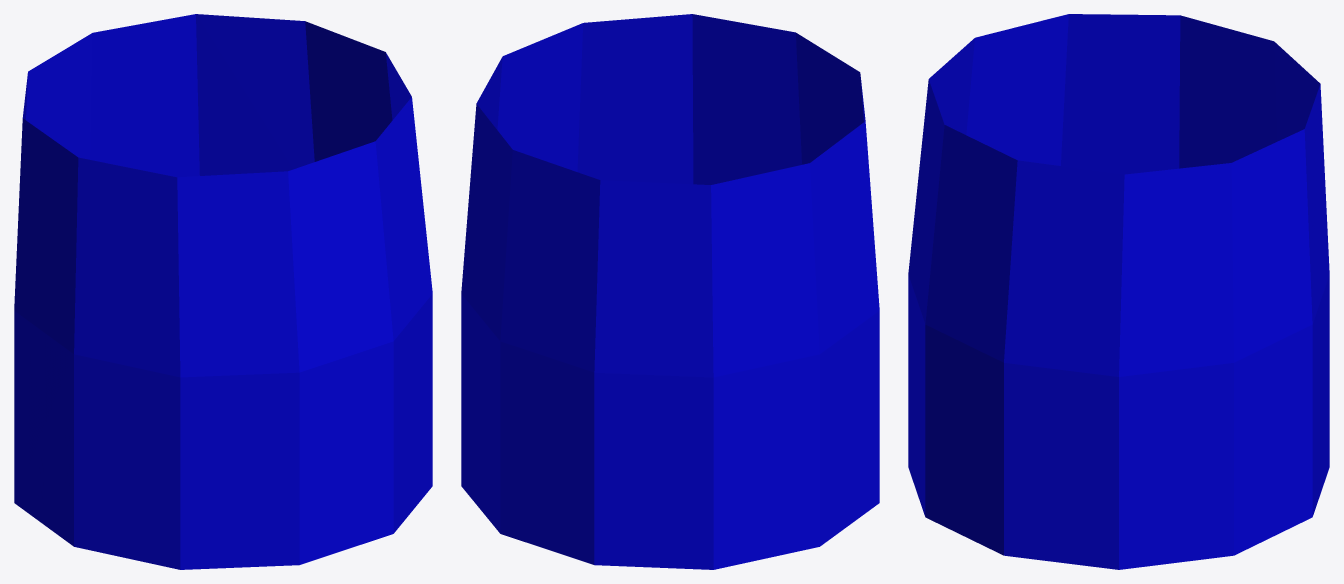
3 views of the same model, side by side, from view 1: azimuth 30°, elevation 25°; view 2: azimuth 150°, elevation 25°; view 3: azimuth 270°, elevation 25° (orthographic).
Visible parts, largest first — view 1: Cube; view 2: Cube; view 3: Cube.
Part boxes in pixels (x1=…): Cube: x1=14, y1=14, x2=432, y2=569; Cube: x1=461, y1=14, x2=879, y2=569; Cube: x1=908, y1=14, x2=1329, y2=569.
Bounding box in the file's own units: 1.96 × 2.01 × 1.98.
